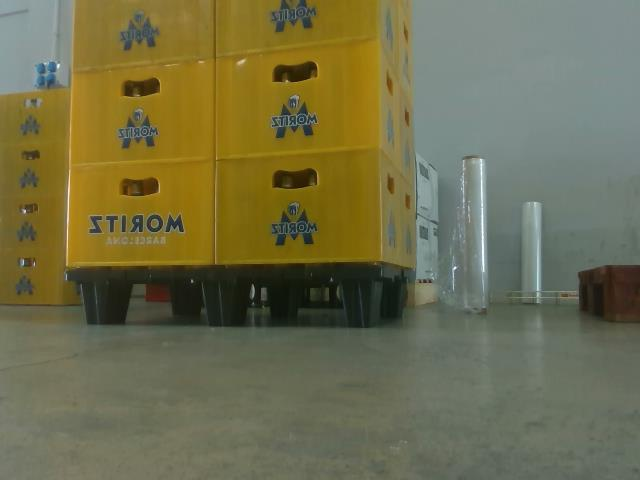block: (80, 281, 132, 329), (200, 276, 243, 327), (339, 276, 377, 328)
front: (61, 262, 396, 333)
hole pallet: (116, 277, 208, 322)
